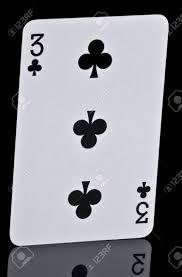three of clubs: (9, 14, 169, 246)
